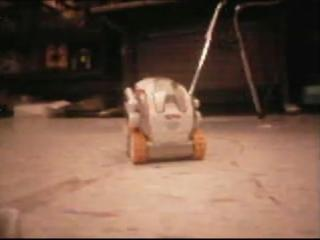cozmo: (122, 75, 206, 164)
